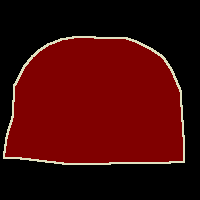hat: (4, 36, 184, 164)
